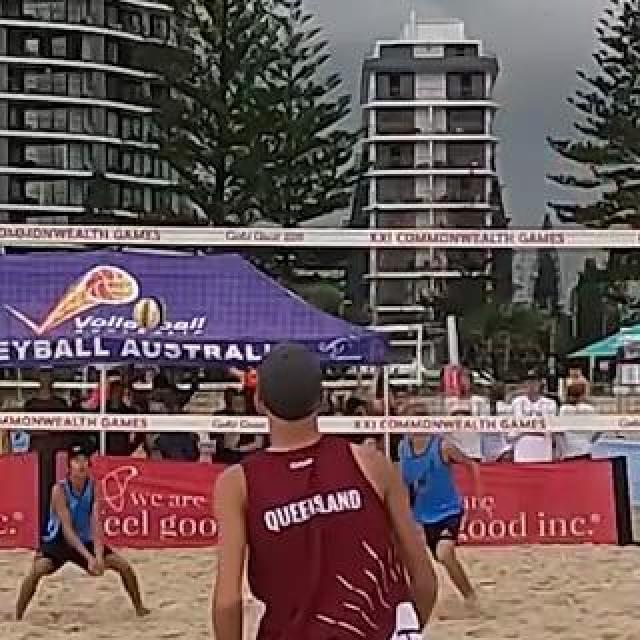volleyball: (134, 297, 166, 329)
